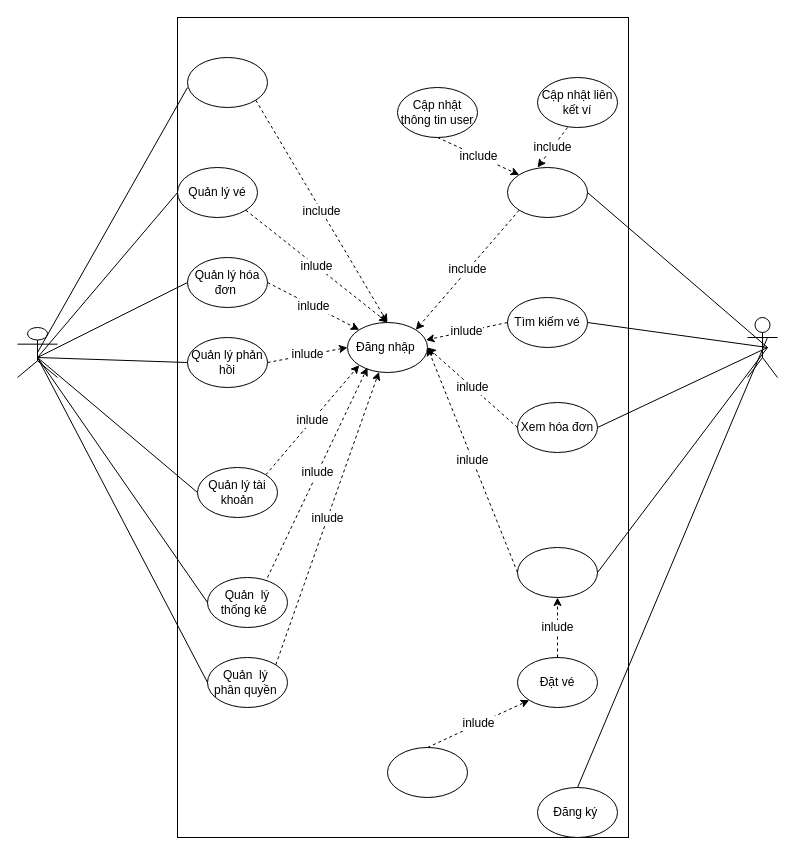
This 795x855 diagram has some shape labels left out. Each missing label, with the box of its shape:
Admin: (16, 326, 58, 378)
Quản lý sự kiện: (186, 56, 268, 108)
Quản lý thông tin: (506, 166, 588, 218)
Thanh toán: (386, 746, 468, 798)
User: (746, 316, 778, 378)
Xem thông tin vé: (516, 546, 598, 598)
